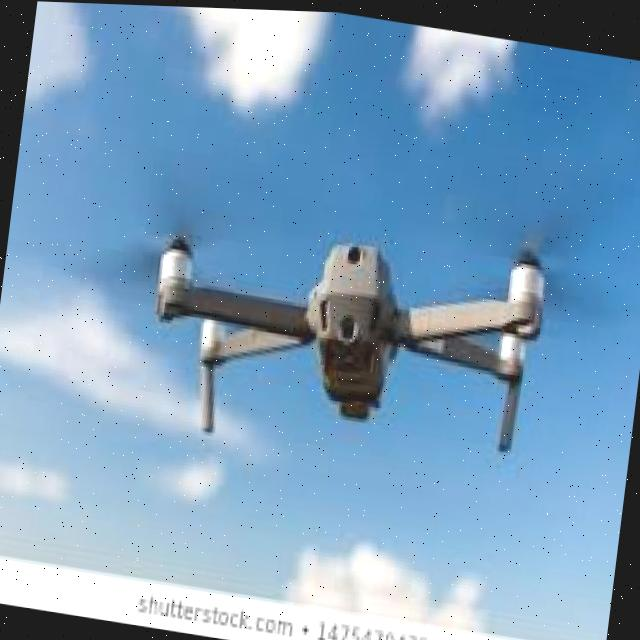drone: (64, 121, 614, 489)
